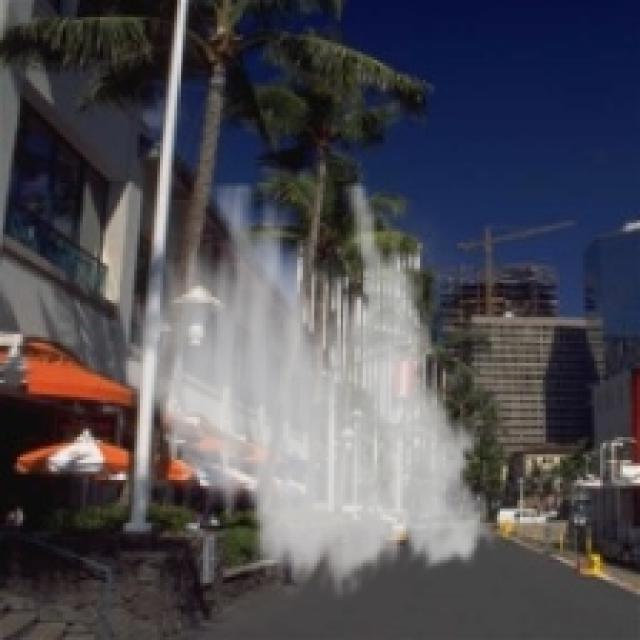Smoke: (111, 183, 506, 600)
